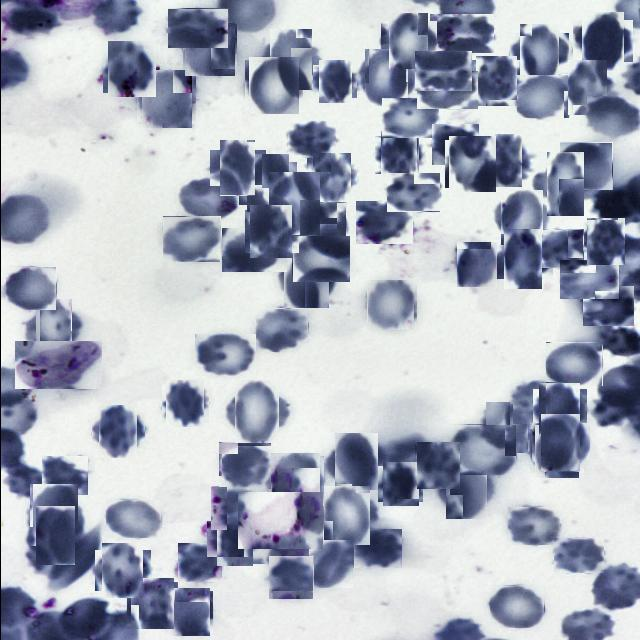red blood cell: (450, 424, 516, 475), (264, 175, 322, 232), (48, 526, 98, 590), (26, 488, 81, 544), (138, 72, 193, 126), (229, 384, 283, 438), (268, 454, 322, 508), (246, 58, 300, 112), (221, 228, 286, 272), (288, 202, 346, 251), (320, 488, 372, 542), (104, 43, 157, 95), (264, 34, 316, 86), (183, 23, 235, 75), (446, 138, 498, 190), (162, 216, 220, 262), (290, 236, 348, 282), (576, 15, 628, 66), (192, 334, 255, 376), (539, 158, 590, 209), (360, 52, 410, 104), (210, 486, 268, 530), (242, 158, 292, 209), (559, 142, 612, 190), (545, 342, 602, 386), (496, 192, 546, 242), (440, 466, 490, 516), (280, 256, 330, 306), (330, 436, 380, 486), (29, 510, 79, 560), (429, 14, 493, 53), (218, 442, 271, 489), (355, 201, 412, 244), (497, 235, 547, 284), (535, 418, 584, 468), (167, 8, 228, 48), (514, 28, 563, 77), (532, 426, 580, 476), (302, 540, 352, 588), (559, 259, 619, 299), (489, 585, 544, 628), (366, 281, 414, 330), (516, 74, 569, 118), (255, 308, 308, 352), (416, 71, 477, 109), (534, 386, 582, 434), (98, 546, 146, 594), (384, 17, 432, 65), (562, 64, 610, 112), (178, 179, 235, 219), (381, 98, 438, 138), (414, 51, 471, 91), (128, 580, 175, 628), (5, 266, 56, 310), (247, 208, 294, 255), (105, 499, 161, 538), (483, 404, 529, 451), (213, 145, 260, 191), (386, 172, 440, 212), (94, 408, 140, 454), (30, 304, 76, 350), (473, 58, 519, 104), (164, 589, 210, 635), (480, 138, 526, 184), (414, 443, 460, 489), (512, 382, 562, 424), (586, 96, 638, 136), (211, 516, 256, 562), (507, 506, 560, 545), (582, 286, 633, 326), (268, 555, 313, 599), (350, 529, 400, 568), (377, 133, 421, 177), (308, 155, 352, 199), (431, 124, 478, 165), (163, 382, 206, 425), (455, 243, 498, 286), (553, 537, 604, 573), (537, 229, 583, 268), (41, 456, 87, 495), (286, 121, 334, 158), (584, 220, 626, 262), (177, 543, 221, 582), (379, 464, 420, 504), (315, 62, 353, 101)
trophozoite: (243, 485, 316, 557), (12, 341, 100, 389)
